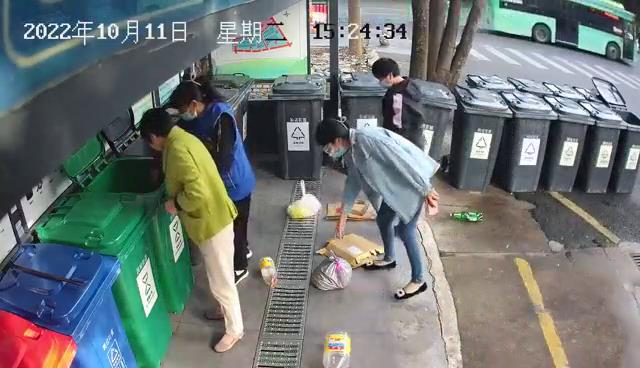garbage-bag: (310, 248, 353, 292), (285, 178, 321, 220)
person: (138, 106, 246, 354), (371, 57, 428, 149)
suliaozhipin: (321, 328, 352, 368), (258, 255, 279, 289), (448, 209, 485, 224)
worker: (314, 114, 442, 301), (168, 66, 258, 285)
zhizhipin: (314, 232, 386, 269), (324, 199, 377, 221)
